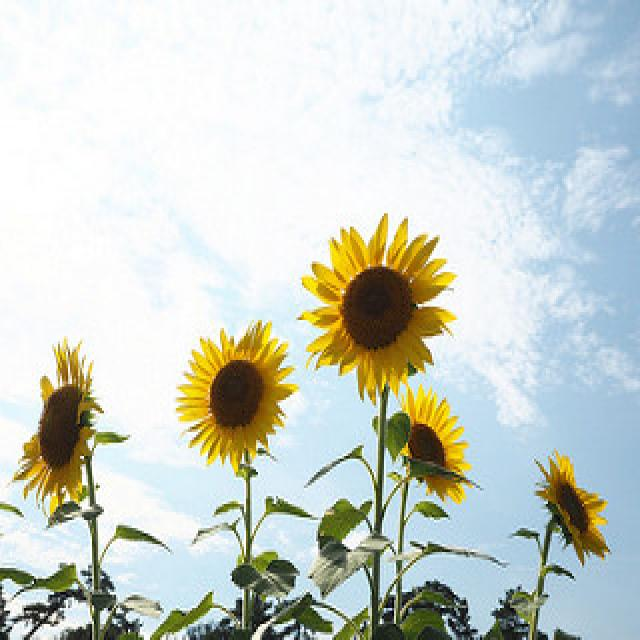sunflower: (296, 204, 462, 407), (166, 308, 306, 471), (0, 329, 102, 524), (523, 437, 625, 576), (391, 380, 479, 511)
